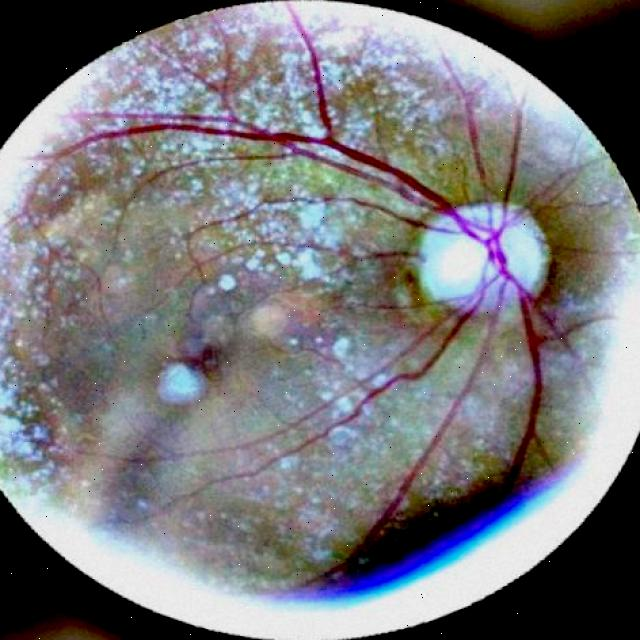Macula: (151, 311, 250, 394)
Nerves: (13, 97, 474, 243), (199, 296, 488, 494), (497, 273, 547, 505)
Optic Disk: (408, 196, 553, 317)
